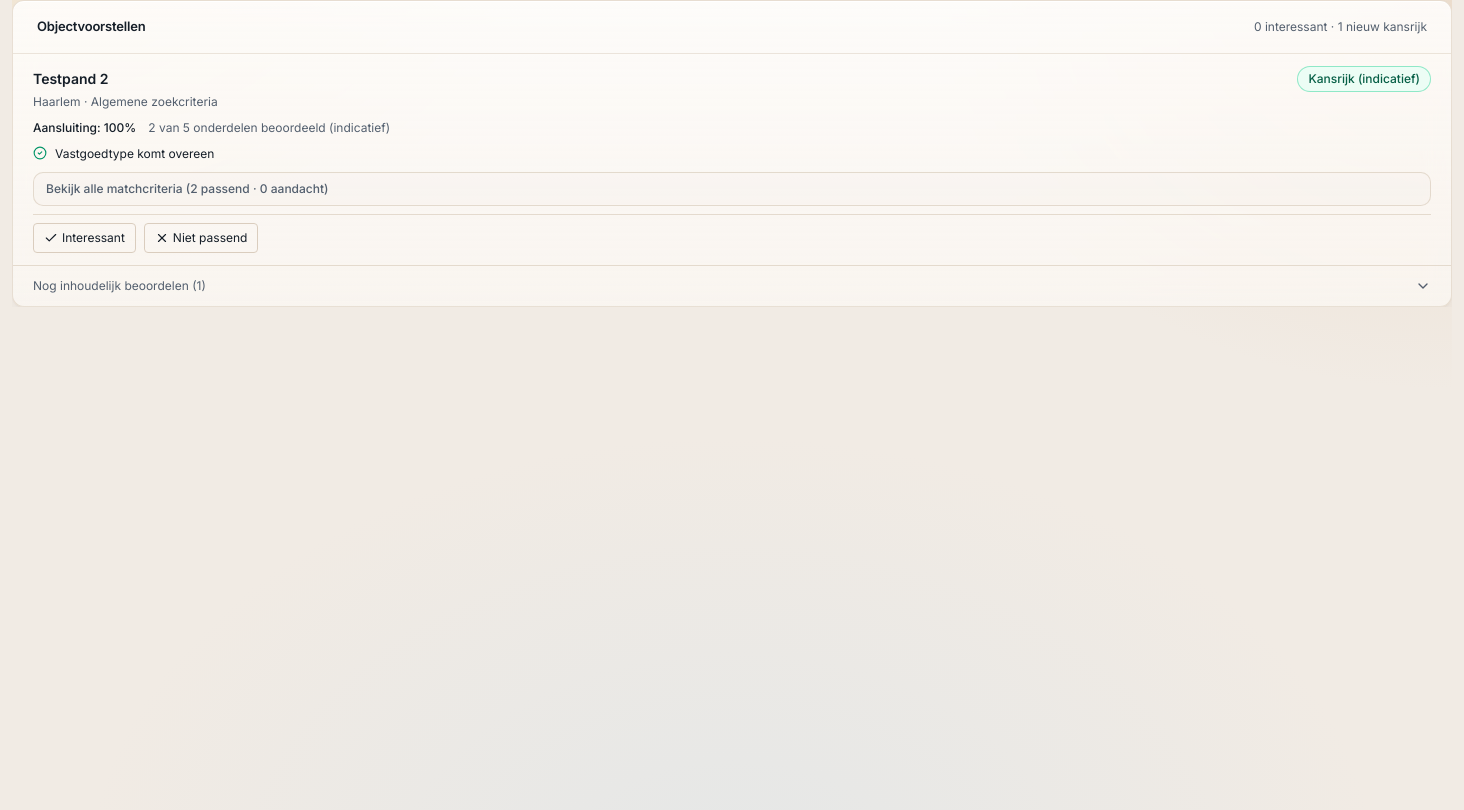
Test: Relaties — objectvoorstellen in productie › voorkomt dat een portefeuille met één locatie-indicatie bovenaan als kansrijk staat
This screenshot has width=1464, height=810.
Expected: the link "Testpand 2" is shown, 33,70 -> 108,86
Expected: the link "Testpand 1" is not shown
Click the button "Nog inhoudelijk beoordelen (1)" at (111, 285), box 13,266 -> 1451,306
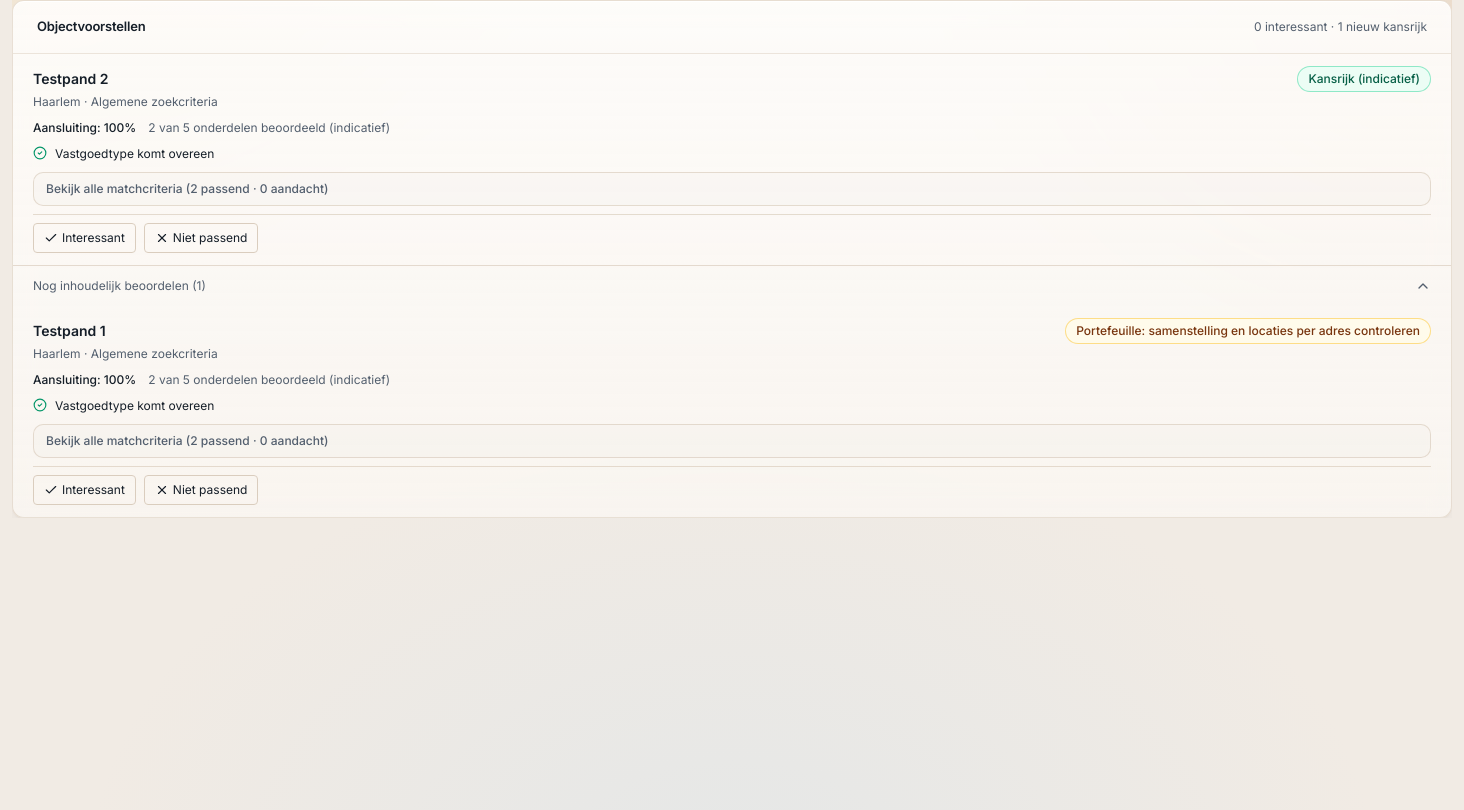
Expected: the link "Testpand 1" is shown, 33,322 -> 106,338
Expected: the text "Portefeuille: samenstelling en locaties per adres controleren" is shown, 1065,318 -> 1431,344
